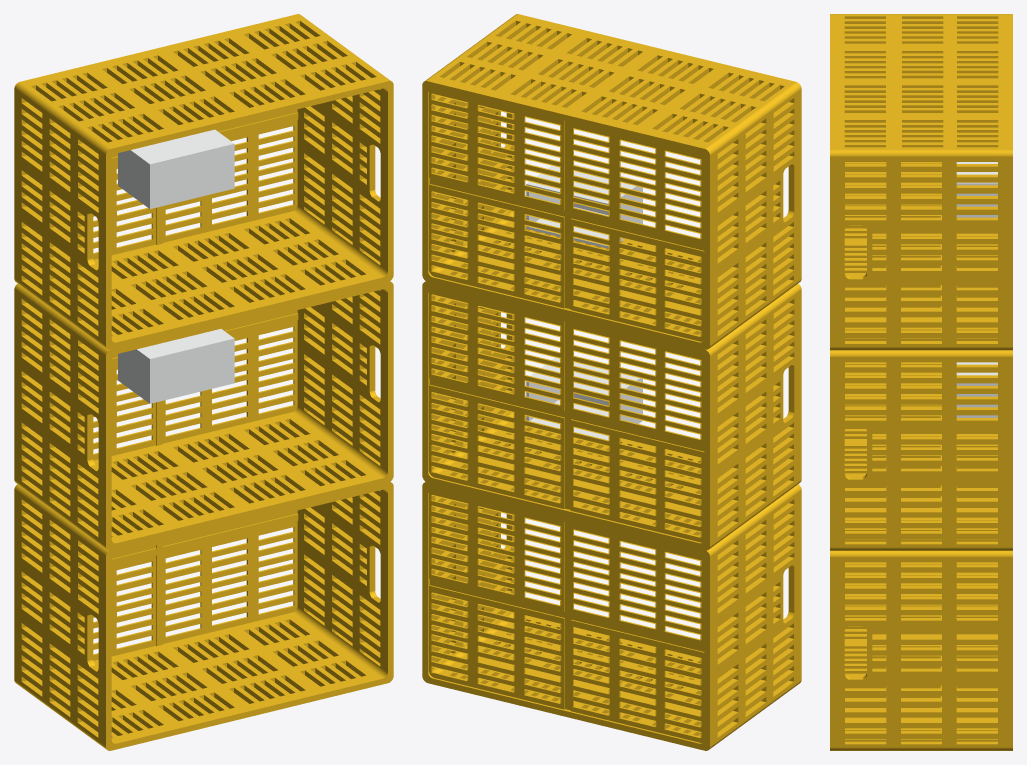
File: aninipot-crate-opt.glb
3 views of the same model, side by side, from view 1: azimuth 30°, elevation 25°; view 2: azimuth 150°, elevation 25°; view 3: azimuth 270°, elevation 25° (orthographic).
Parts seen in each view (by area): view 1: *6, *9; view 2: *6, *9; view 3: *6, *9.
Part boxes in pixels (bbox=[...]): *6: bbox=[14, 14, 393, 750]; *9: bbox=[118, 129, 234, 403]; *6: bbox=[422, 14, 801, 750]; *9: bbox=[526, 160, 642, 440]; *6: bbox=[830, 14, 1012, 750]; *9: bbox=[956, 162, 997, 417].
Bounding box in the file's own units: 0.4501 × 0.8996 × 0.248.
